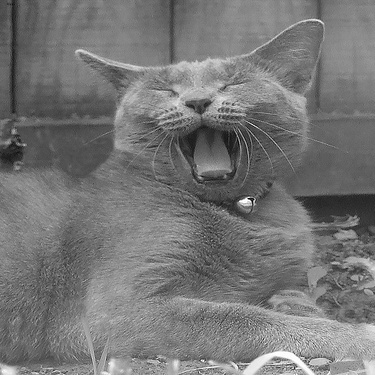cat: (7, 17, 373, 363)
